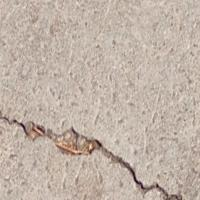crack: (0, 95, 199, 199)
